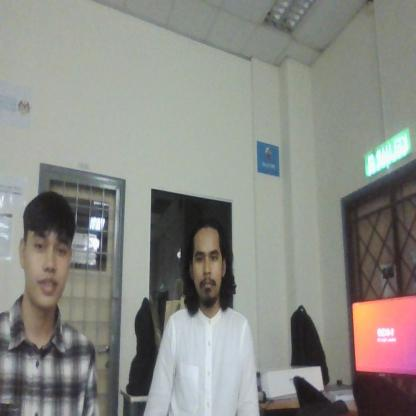Open-Eyes: (28, 231, 73, 264), (192, 242, 221, 270)
